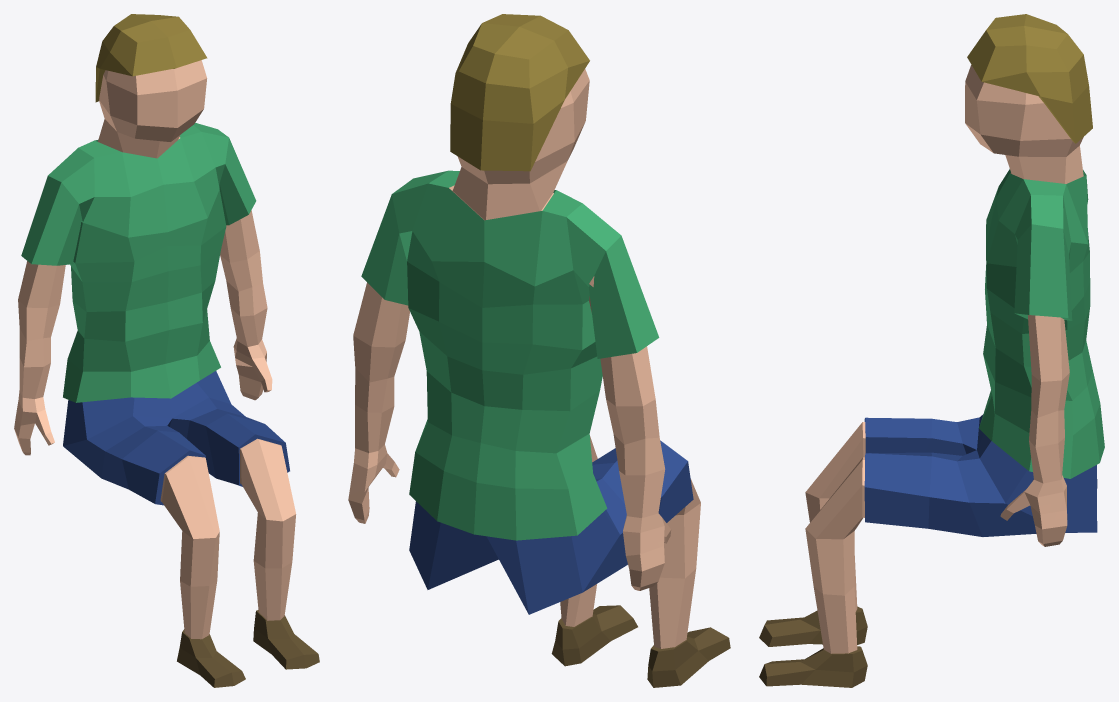
The model's file is boy.fbx.
The picture shows the model from 3 angles, left to right: view 1: azimuth 30°, elevation 25°; view 2: azimuth 150°, elevation 25°; view 3: azimuth 270°, elevation 25°; orthographic projection. The views are drawn at different scales.
Visible parts, largest first — view 1: _Child; view 2: _Child; view 3: _Child.
Boxes of the visible parts, box(x1,y1,x2,y2) form: _Child: box(14, 14, 319, 687); _Child: box(348, 14, 730, 687); _Child: box(759, 14, 1104, 687).
Size of the model in its own units: 50.95 by 112 by 55.24.
